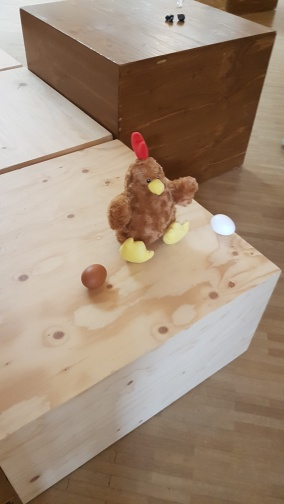chicken: (108, 127, 199, 265)
egg: (79, 262, 110, 289), (210, 212, 237, 237)
